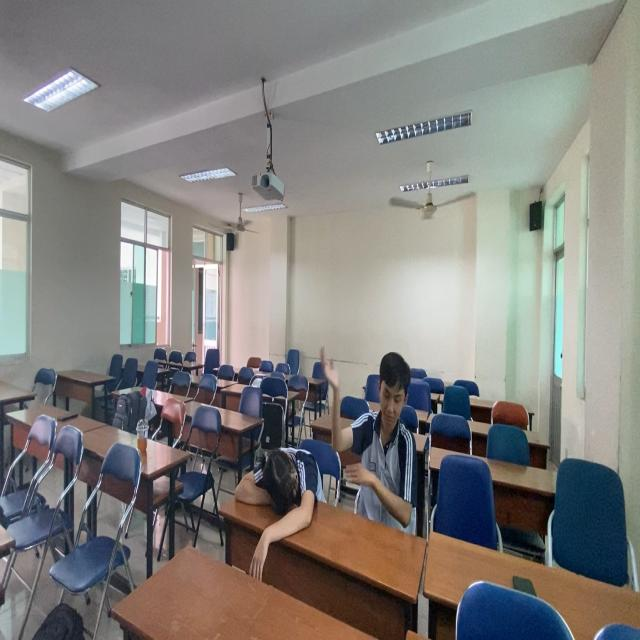raise_hand: (320, 334, 417, 519)
sleep: (234, 430, 326, 545)
